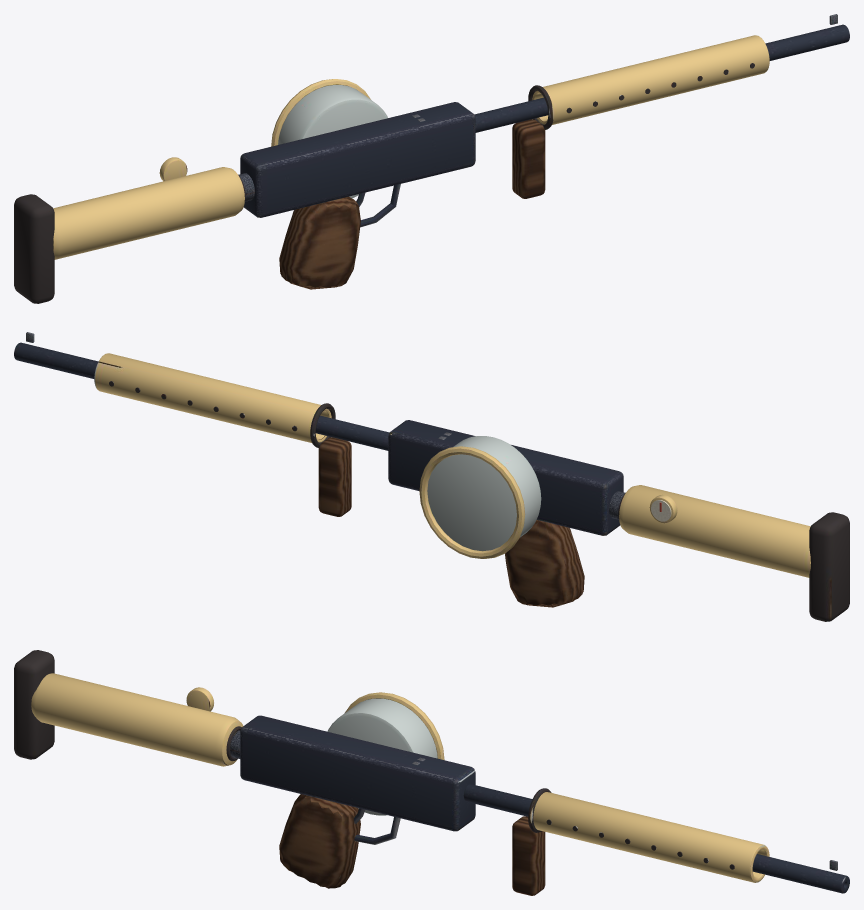
The model's file is needler2.glb.
The picture shows the model from 3 angles, top to bottom: view 1: azimuth 30°, elevation 25°; view 2: azimuth 150°, elevation 25°; view 3: azimuth 330°, elevation 25°; orthographic projection.
Parts seen in each view (by area): view 1: receiver, stock_bottle, shroud, grip, butt, drum, barrel, fore_grip, drum_rim; view 2: stock_bottle, drum, shroud, receiver, grip, butt, barrel, drum_rim, fore_grip; view 3: receiver, stock_bottle, shroud, grip, drum, butt, barrel, fore_grip, drum_rim, gauge.
Part boxes in pixels (x1,y1,x2,y2): receiver: (240,102,475,217); stock_bottle: (53,167,244,259); shroud: (532,35,769,124); grip: (279,196,360,289); butt: (14,194,54,303); drum: (278,85,387,198); barrel: (474,24,849,132); fore_grip: (512,119,545,198); drum_rim: (271,79,370,146); stock_bottle: (619,485,810,577); drum: (427,436,541,551); shroud: (94,353,331,442); receiver: (388,420,623,535); grip: (505,520,584,607); butt: (809,512,849,621); barrel: (14,342,389,450); drum_rim: (419,446,525,558); fore_grip: (318,437,351,516); receiver: (240,715,475,831); stock_bottle: (31,673,243,766); shroud: (533,792,769,882); grip: (279,794,360,888); drum: (327,698,437,815); butt: (14,650,54,759); barrel: (463,784,849,893); fore_grip: (512,816,545,895); drum_rim: (345,692,444,760); gauge: (186,687,213,711).
Size of the model in its own units: 0.675 by 0.1355 by 0.069.
1 material, 1 textured.
